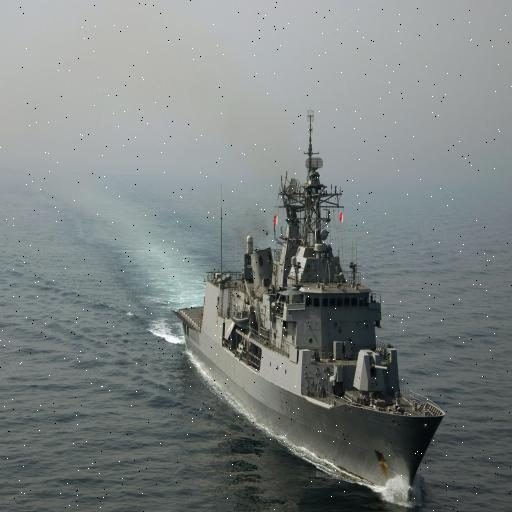Fragata: (3, 74, 280, 507)
